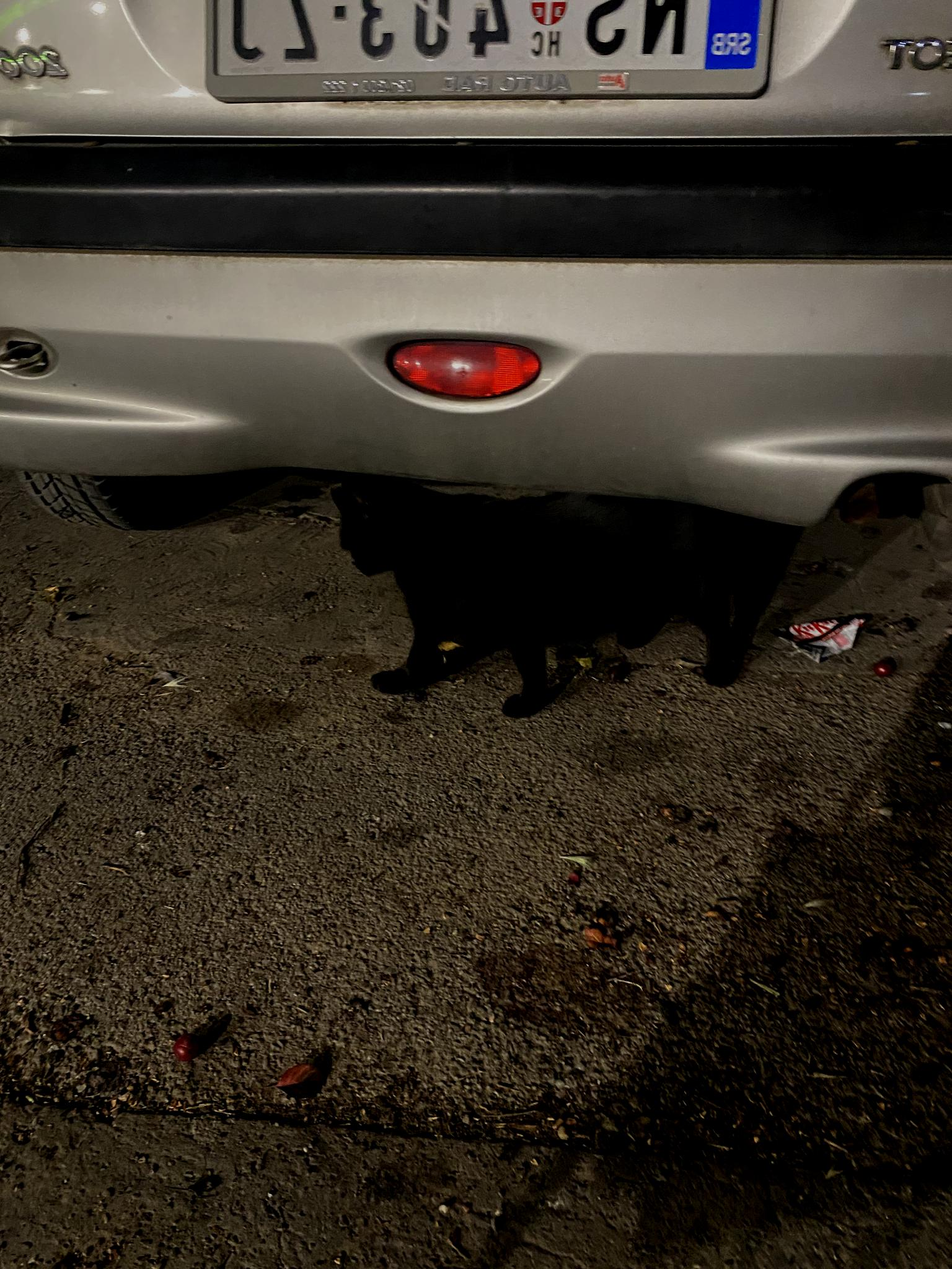macka: (328, 480, 741, 720)
